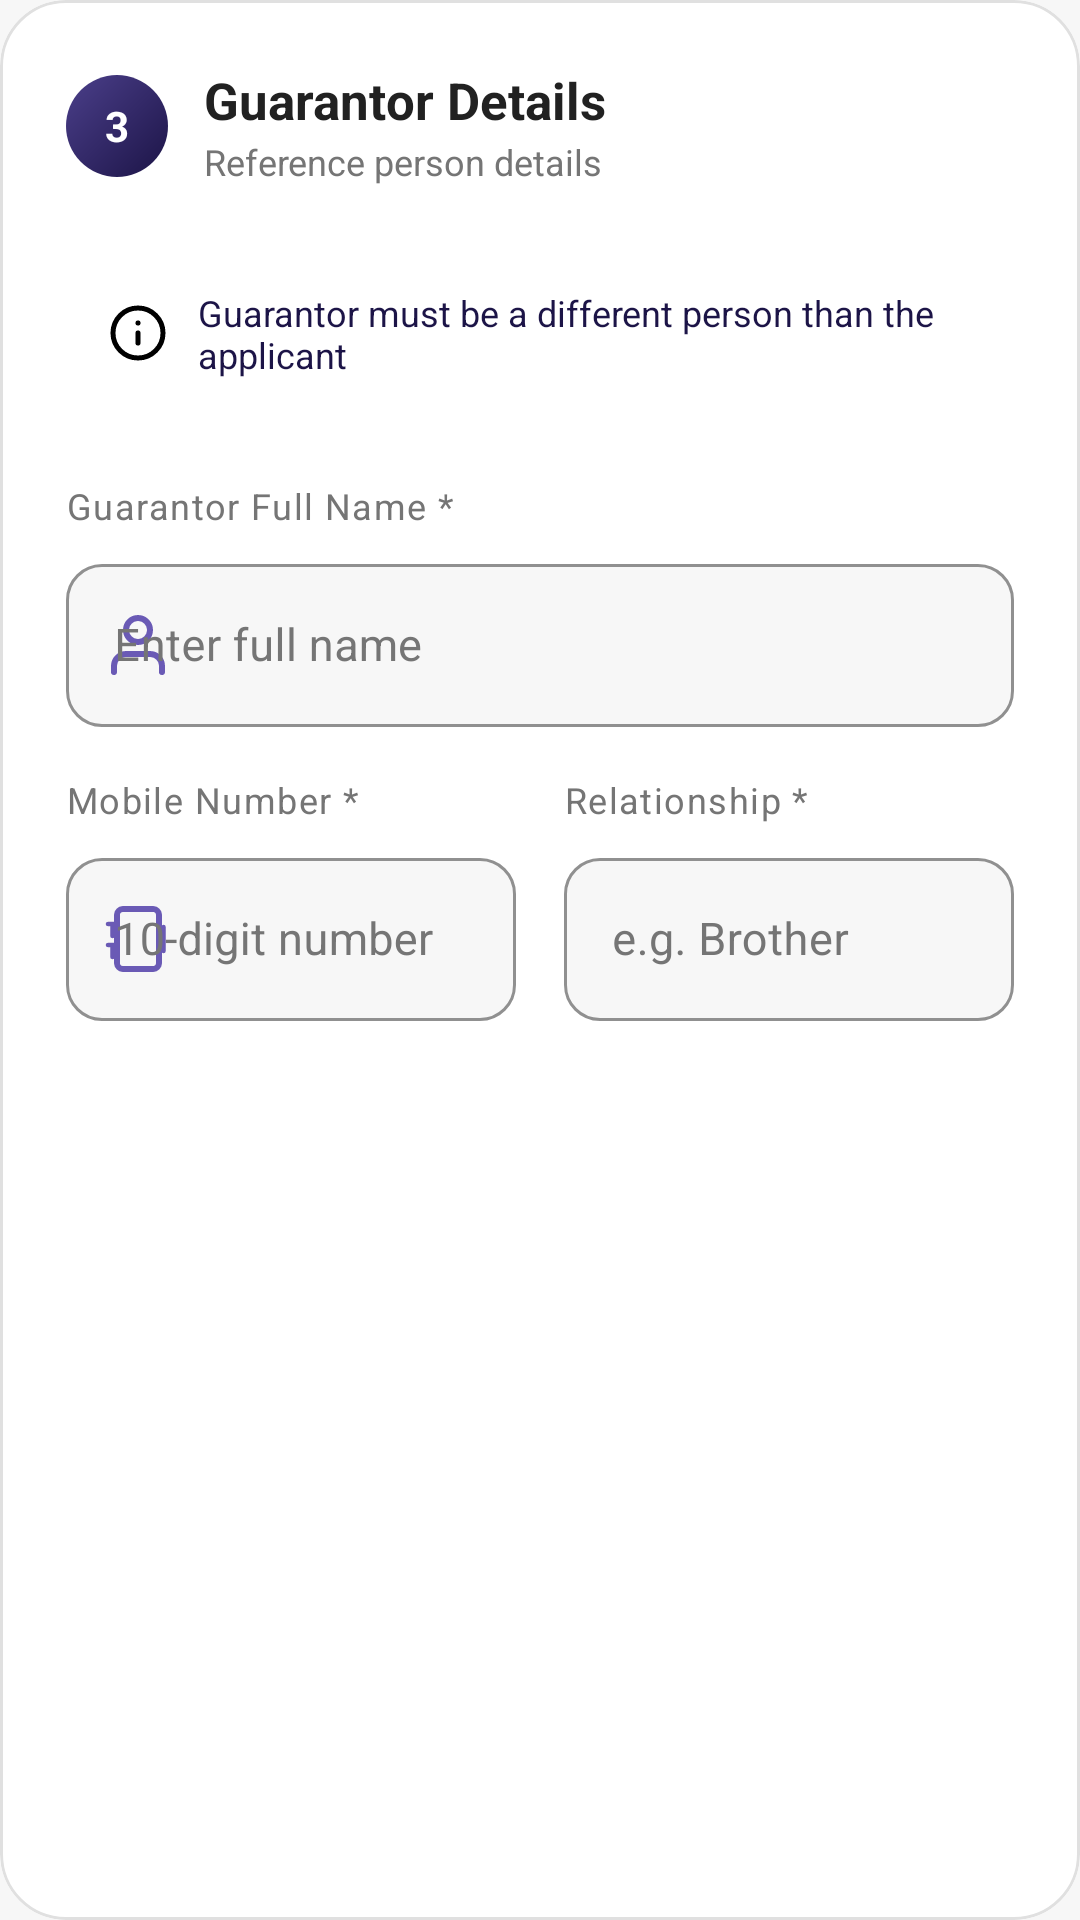

Screen size 1080x1920. Icon name, then its center in pixels as (x,y):
Info: (138,333)
